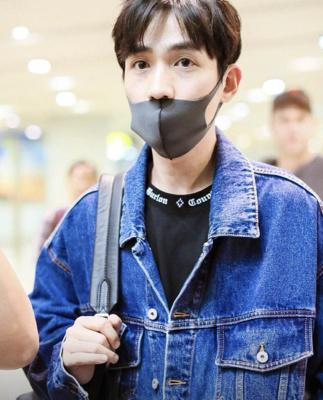NONE: (274, 112, 310, 153)
WRONG: (124, 32, 224, 154)
